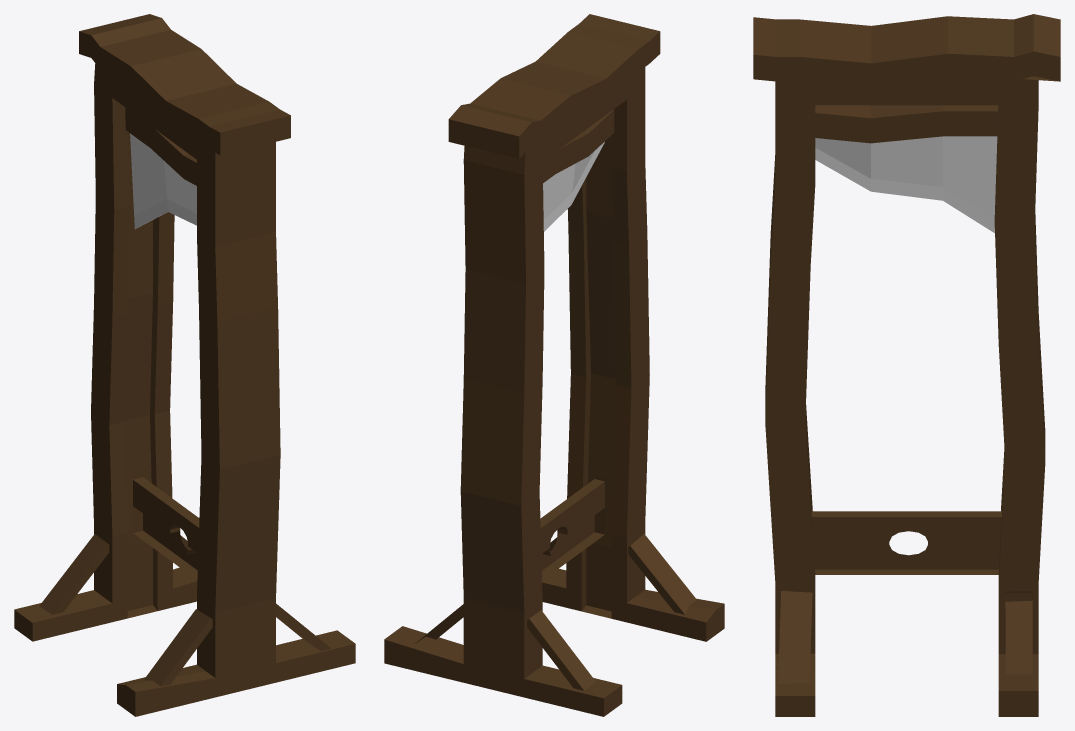
The model's file is Gullotine.fbx.
3 views of the same model, side by side, from view 1: azimuth 30°, elevation 25°; view 2: azimuth 150°, elevation 25°; view 3: azimuth 270°, elevation 25° (orthographic). The views are drawn at different scales.
Parts seen in each view (by area): view 1: Gulotine; view 2: Gulotine; view 3: Gulotine.
Part boxes in pixels (x1,y1,x2,y2): Gulotine: (14,14,355,716); Gulotine: (384,14,724,716); Gulotine: (753,14,1060,716).
Size of the model in its own units: 266 by 665 by 295.
